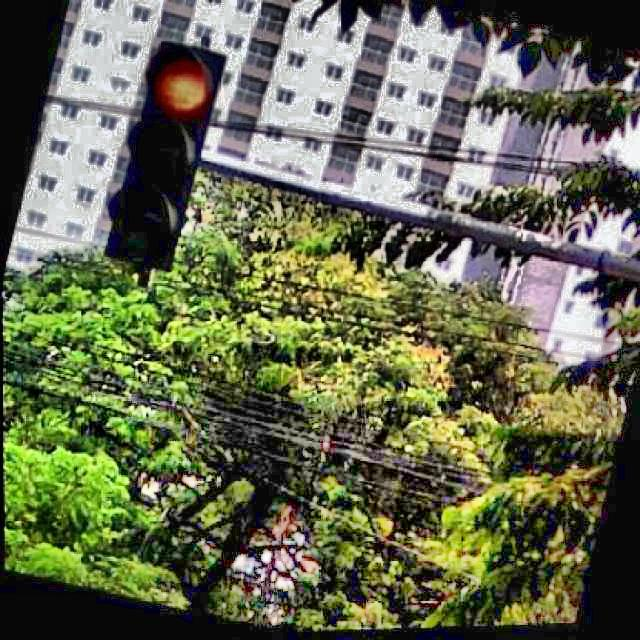red: (118, 36, 218, 272)
